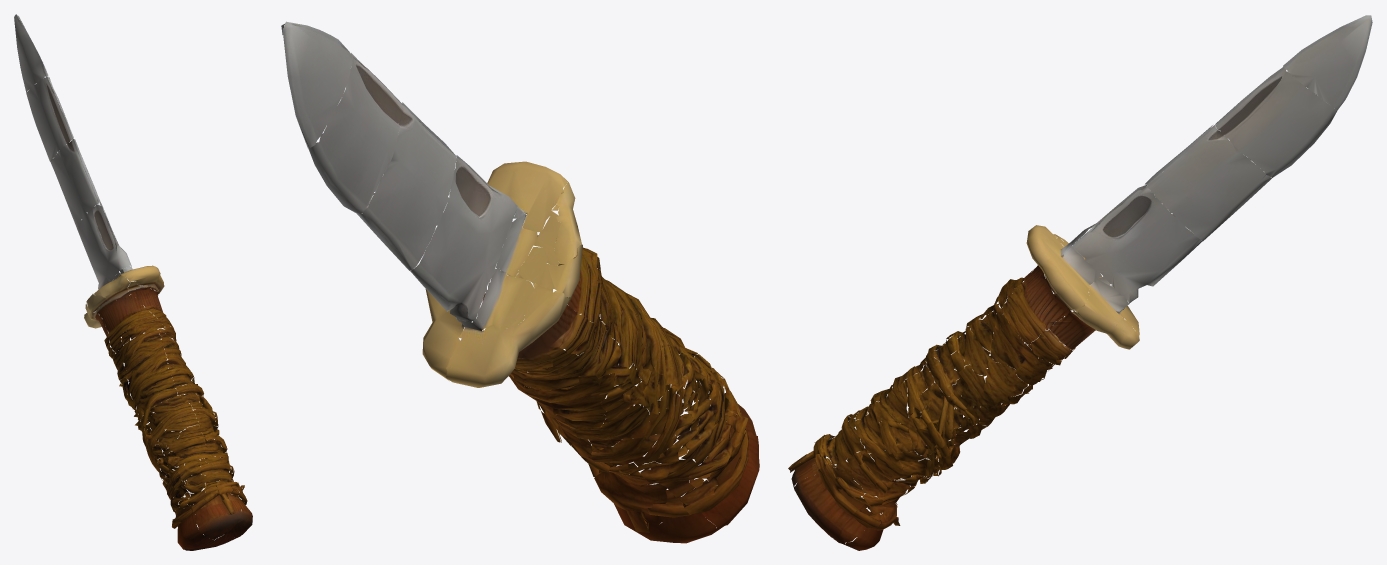
File: honed_knife.glb
The picture shows the model from 3 angles, left to right: view 1: azimuth 30°, elevation 25°; view 2: azimuth 150°, elevation 25°; view 3: azimuth 270°, elevation 25°; orthographic projection. The views are drawn at different scales.
Visible parts, largest first — view 1: tripo_node_05196da4-c7d4-4158-8962-454e95fec8e5; view 2: tripo_node_05196da4-c7d4-4158-8962-454e95fec8e5; view 3: tripo_node_05196da4-c7d4-4158-8962-454e95fec8e5.
Part boxes in pixels (x1,y1,x2,y2): tripo_node_05196da4-c7d4-4158-8962-454e95fec8e5: [14, 14, 252, 550]; tripo_node_05196da4-c7d4-4158-8962-454e95fec8e5: [281, 21, 759, 543]; tripo_node_05196da4-c7d4-4158-8962-454e95fec8e5: [788, 15, 1372, 550].
Bounding box in the file's own units: 0.1956 × 1 × 1.
Materials: 1 (1 with a texture image).
